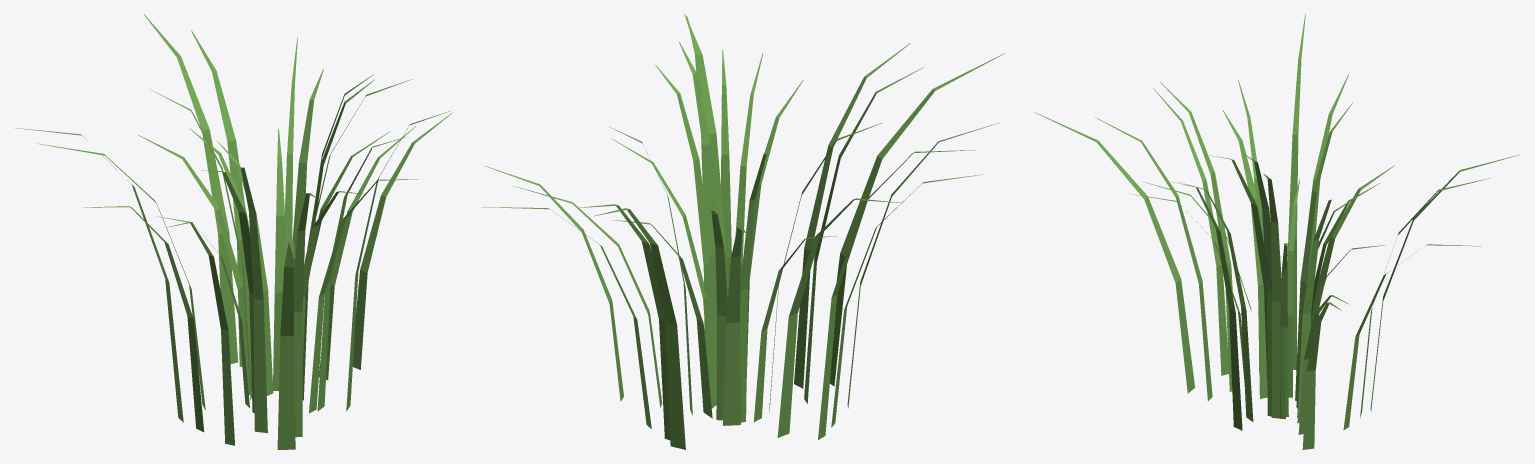
Rendered from tall_grass_clump.glb.
3 views of the same model, side by side, from view 1: azimuth 30°, elevation 25°; view 2: azimuth 150°, elevation 25°; view 3: azimuth 270°, elevation 25° (orthographic). The views are drawn at different scales.
Visible parts, largest first — view 1: Tall_Grass_Tuft_Natural; view 2: Tall_Grass_Tuft_Natural; view 3: Tall_Grass_Tuft_Natural.
Part boxes in pixels (x1,y1,x2,y2): Tall_Grass_Tuft_Natural: (15,14,452,449); Tall_Grass_Tuft_Natural: (481,14,1004,449); Tall_Grass_Tuft_Natural: (1034,14,1520,449).
Size of the model in its own units: 2.03 by 1.41 by 2.11.
